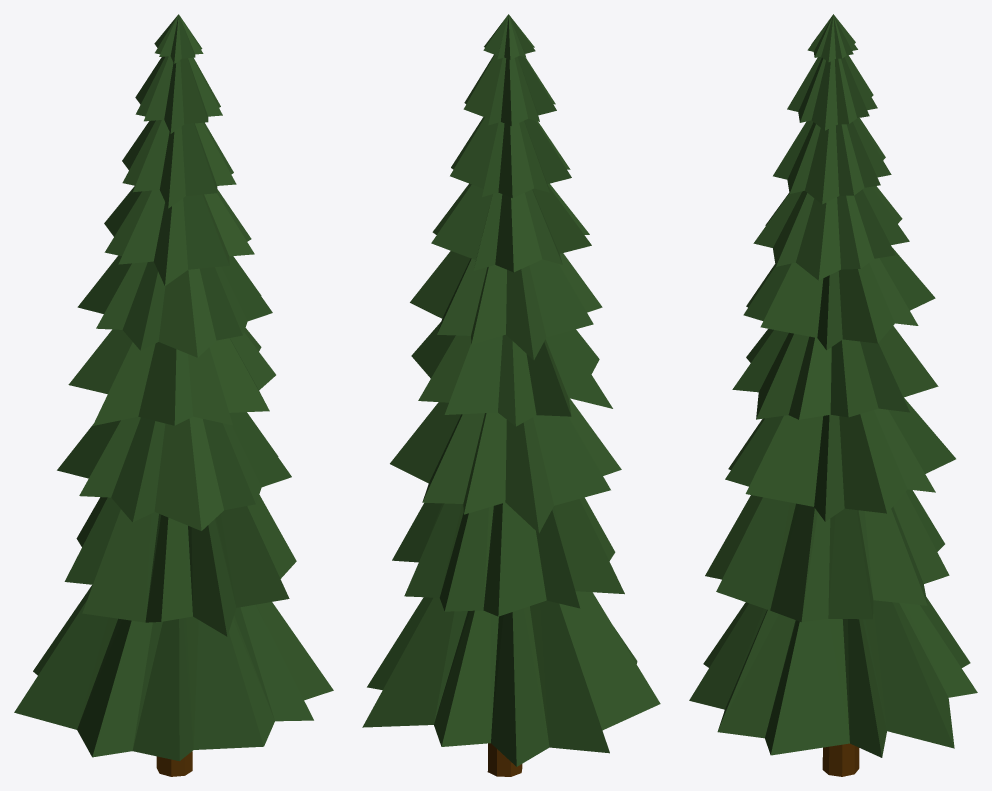
File: Tree5.fbx
3 renders of one model, left to right at view 1: azimuth 30°, elevation 25°; view 2: azimuth 150°, elevation 25°; view 3: azimuth 270°, elevation 25°, orthographic.
Parts seen in each view (by area): view 1: Tree5; view 2: Tree5; view 3: Tree5.
Boxes of the visible parts, left/top/right/bottom form: Tree5: left=14, top=14, right=333, bottom=776; Tree5: left=362, top=14, right=660, bottom=776; Tree5: left=689, top=14, right=977, bottom=776.
Bounding box in the file's own units: 246 × 693 × 240.
